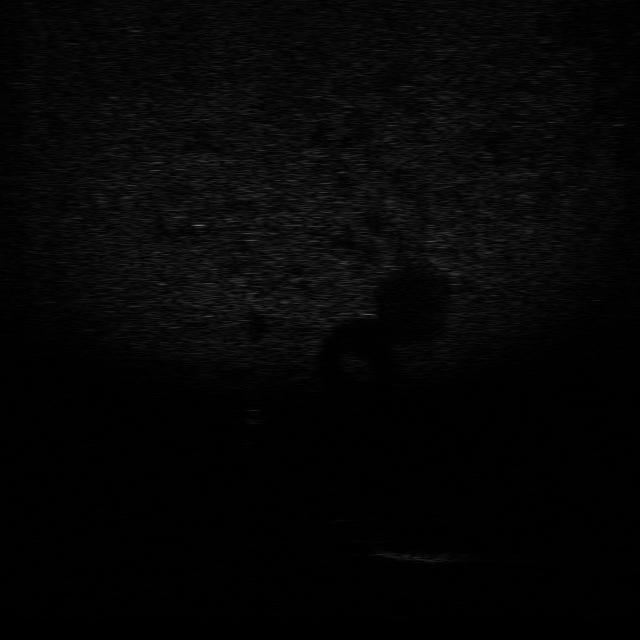ball: (238, 406, 274, 426)
metal bucket: (372, 546, 466, 566)
tyre: (324, 514, 396, 546)
